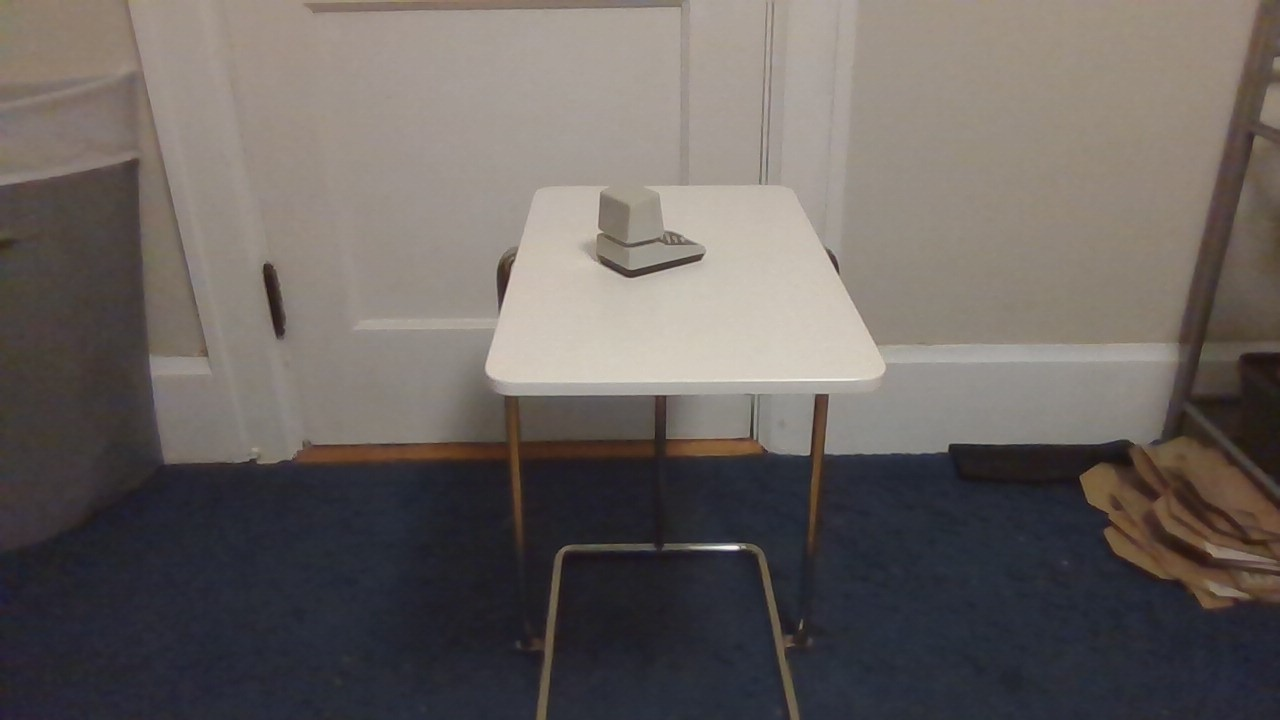Toy: (577, 163, 711, 295)
